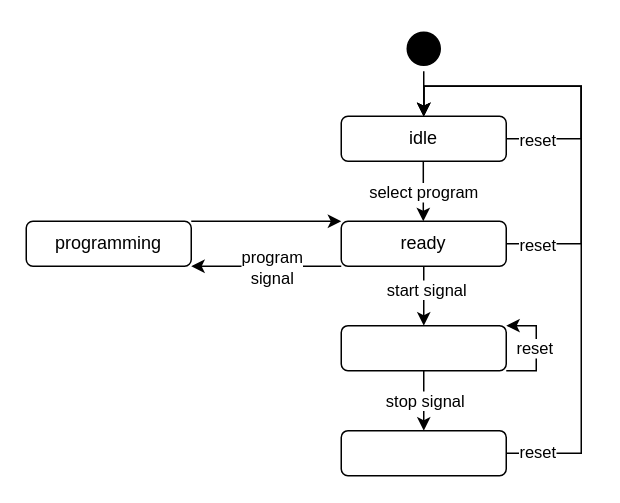
Image size: 620x503. Some labels were removed from this diagram. The shapes that lost their labels are listed below. From the top down, each one's box as (x1, y1, x2, y2) in pixels, then its label:
(340, 324, 506, 371): run
(340, 429, 506, 476): stop
